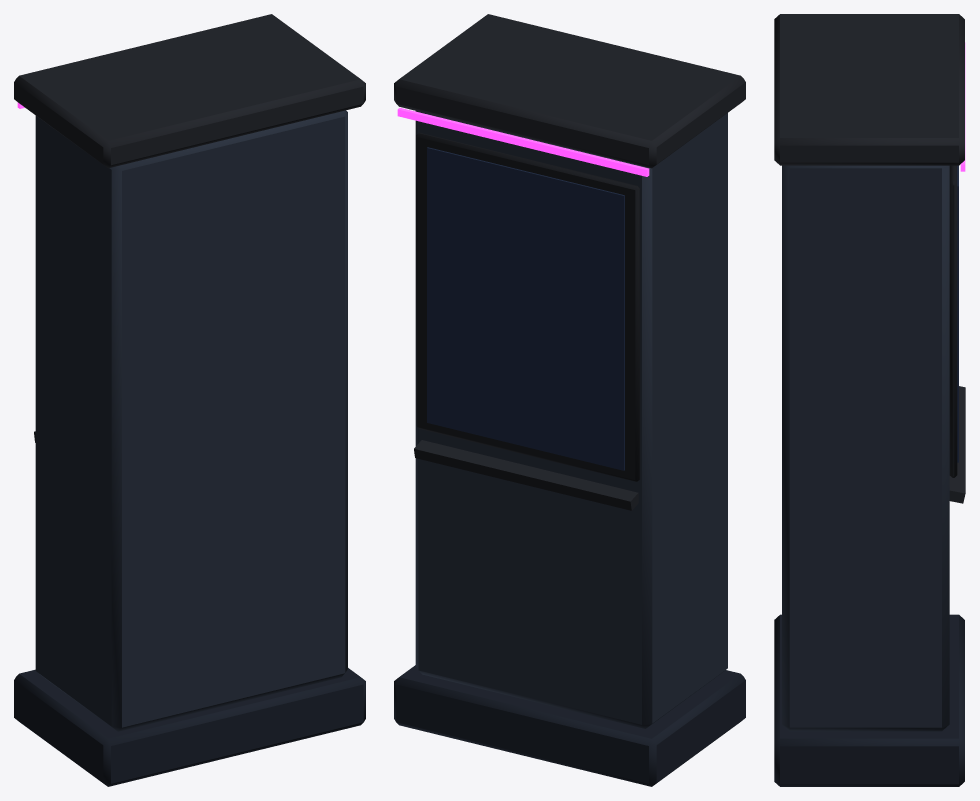
Rendered from kiosk.glb.
The picture shows the model from 3 angles, left to right: view 1: azimuth 30°, elevation 25°; view 2: azimuth 150°, elevation 25°; view 3: azimuth 270°, elevation 25°; orthographic projection.
Parts seen in each view (by area): view 1: body; view 2: body, screen; view 3: body, screen.
Part boxes in pixels (<box>): body: <box>14,14,365,786</box>; body: <box>394,14,745,786</box>; screen: <box>427,147,624,470</box>; body: <box>774,14,965,786</box>; screen: <box>957,165,958,462</box>.
Bounding box in the file's own units: 0.8 × 1.88 × 0.502.
